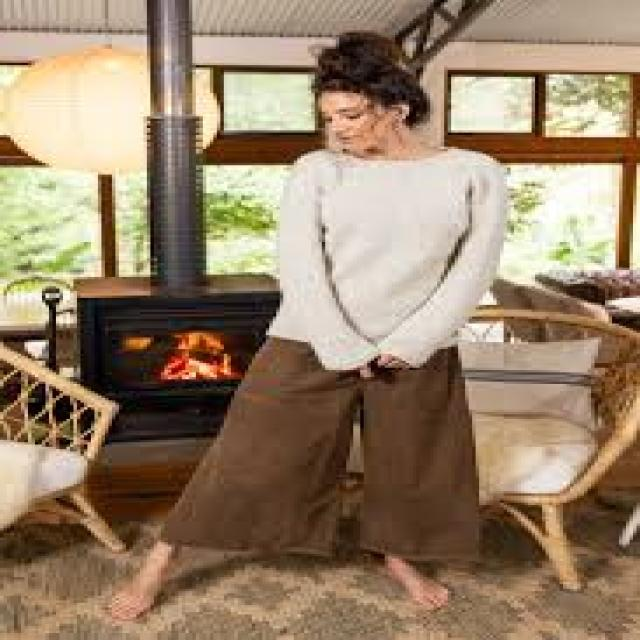fire: (160, 328, 232, 381)
